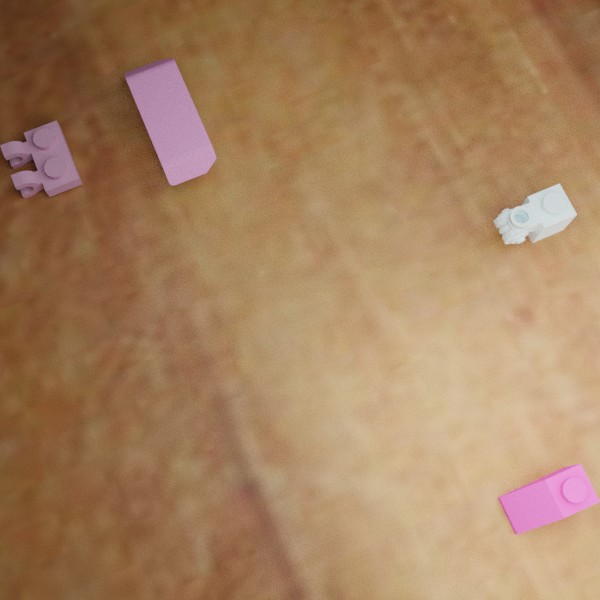lego: (123, 57, 216, 185), (497, 463, 599, 534), (0, 120, 82, 198), (493, 183, 577, 244)
